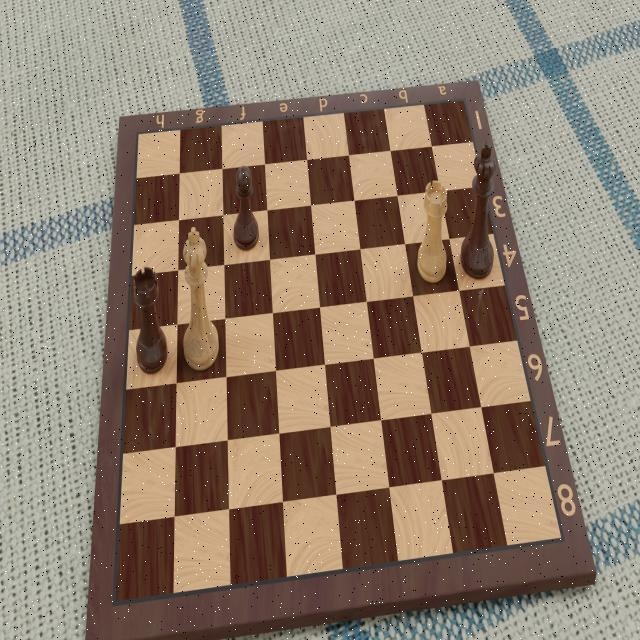black-king: (459, 140, 497, 283)
black-pawn: (232, 161, 263, 254)
black-rook: (131, 261, 171, 378)
white-king: (182, 223, 224, 373)
white-rook: (414, 172, 450, 288)
